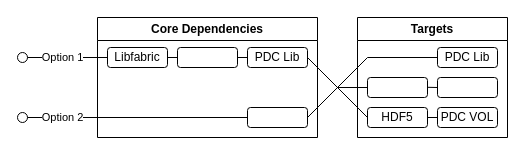
Image size: 525x155. Some labels were removed from this diagram. The shapes that lost their labels are listed below. From the top down, each one's centre as x and y in pixels, then its label:
point 207,57: Mercury
point 397,87: Python
point 467,87: PDCpy
point 277,117: Spack
